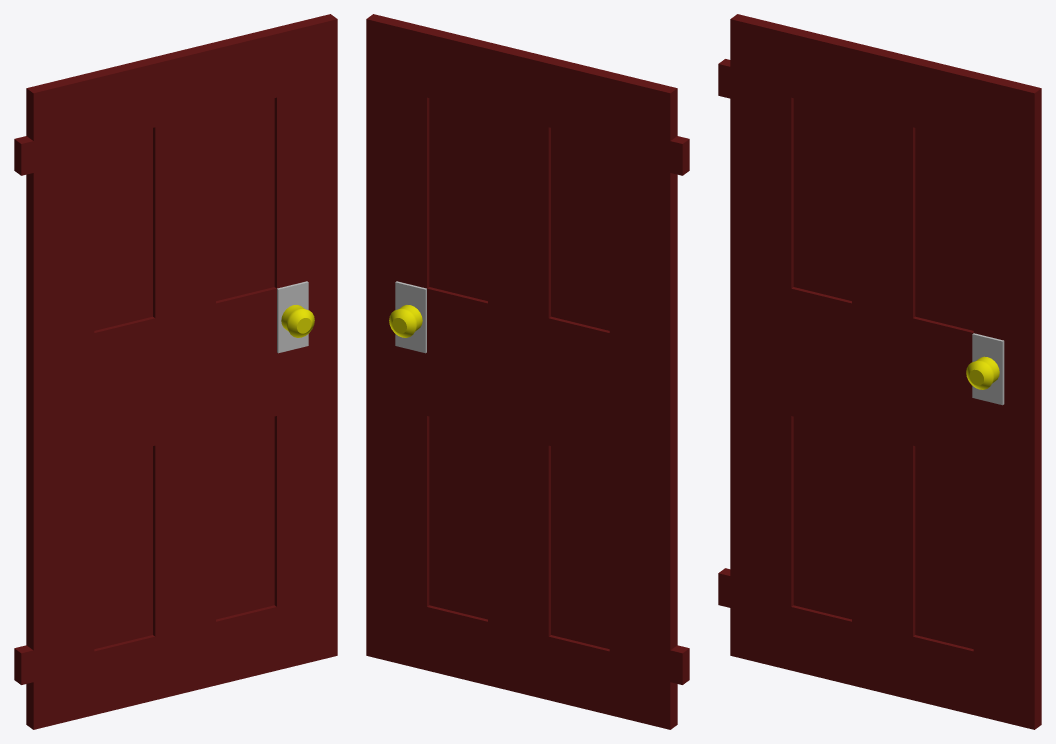
The model's file is WoodDoor.fbx.
3 views of the same model, side by side, from view 1: azimuth 30°, elevation 25°; view 2: azimuth 150°, elevation 25°; view 3: azimuth 330°, elevation 25° (orthographic).
Parts seen in each view (by area): view 1: pCube1, pasted__pCylinder1, pCube3, pCube2; view 2: pCube1, pasted__pCylinder2, pCube3, pCube2; view 3: pCube1, pasted__pCylinder1.
Boxes of the visible parts, x1,y1,x2,y2 form: pCube1: (26,14,337,729); pasted__pCylinder1: (281,305,314,337); pCube3: (14,645,33,684); pCube2: (14,136,33,175); pCube1: (366,14,677,729); pasted__pCylinder2: (389,305,422,337); pCube3: (670,645,689,684); pCube2: (670,136,689,175); pCube1: (730,14,1041,729); pasted__pCylinder1: (966,356,999,389).
Size of the model in its own units: 5.2 by 10 by 0.9.
